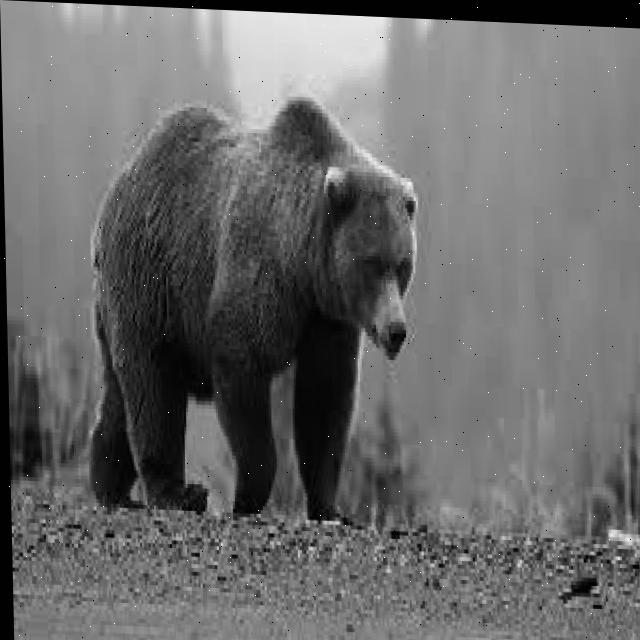Bear: (74, 95, 425, 551)
